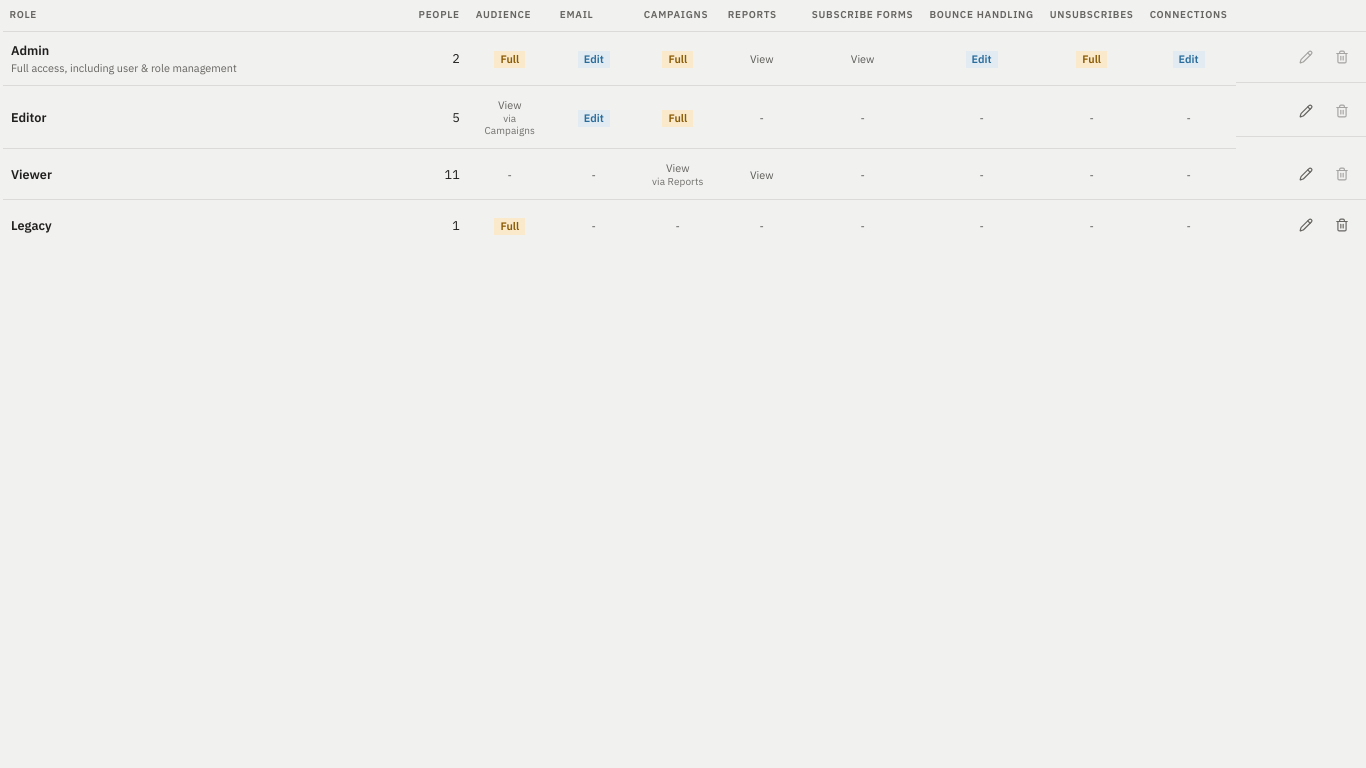
Test case: the role editor › opens with the role's current levels selected
The image size is (1366, 768).
Expected: the text "Editor" is shown, [11,109,46,125]
Click the button named "Edit Editor" at (1306, 111), box [1290,95,1322,127]
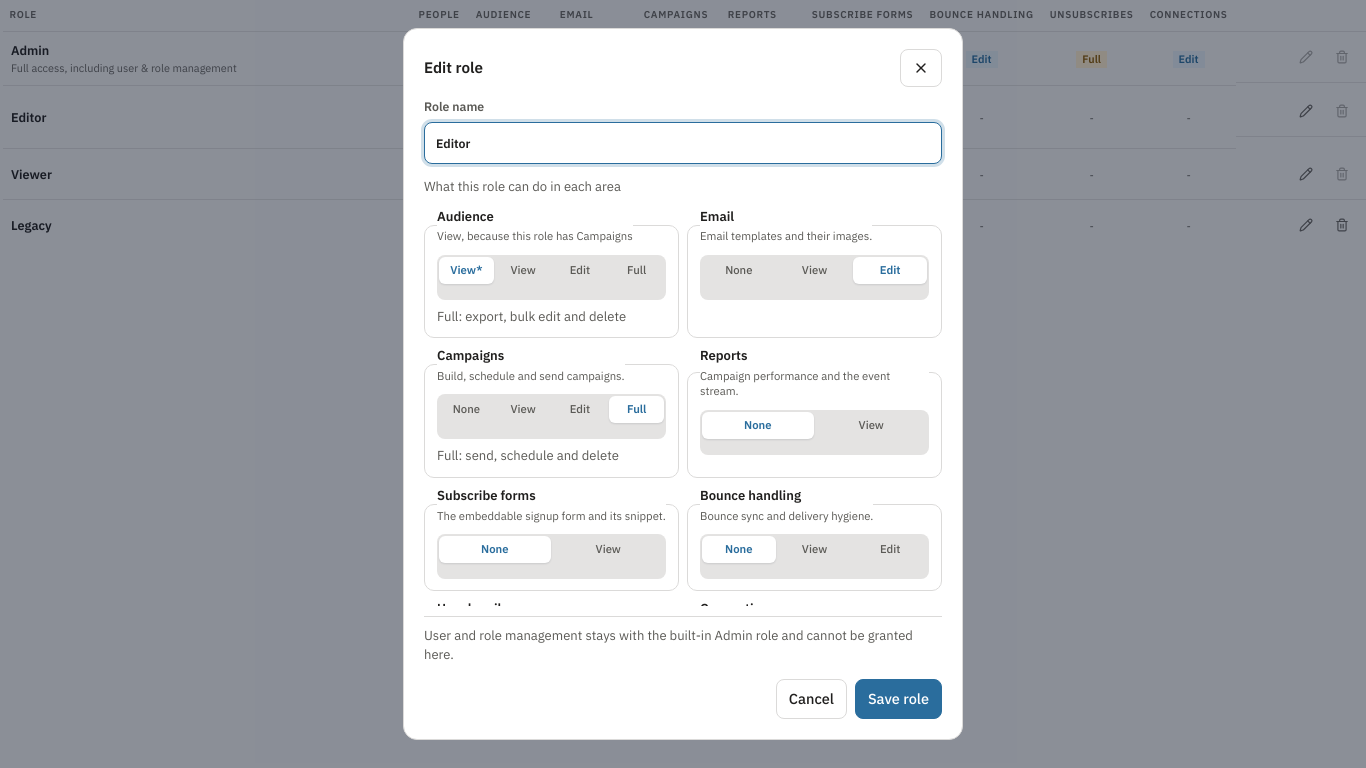
Now the radio button labelled "Full" below "Build, schedule and send campaigns." is checked, box [609,396,664,423]
